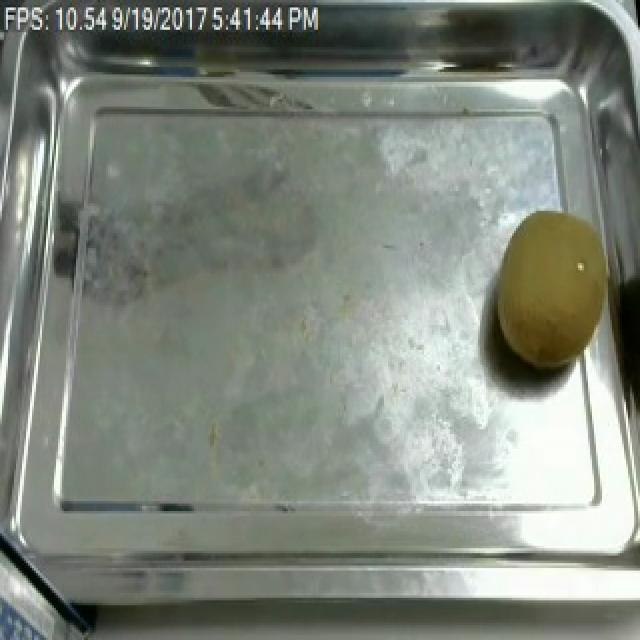Fruit: (486, 201, 622, 382)
